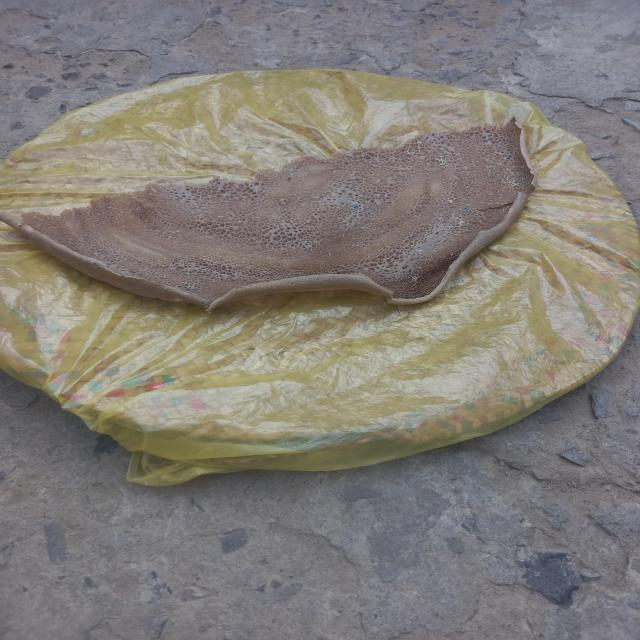injera_mold: (436, 157, 446, 166), (404, 148, 418, 154), (460, 206, 474, 212), (456, 217, 465, 226), (410, 275, 418, 285), (507, 179, 516, 187), (416, 140, 424, 146), (488, 172, 496, 178), (505, 155, 511, 161), (448, 198, 454, 204), (352, 203, 358, 209), (500, 179, 506, 184), (508, 209, 514, 214), (188, 284, 195, 288), (363, 226, 368, 231), (416, 249, 424, 252), (366, 210, 372, 214), (518, 173, 522, 178), (488, 166, 496, 168), (393, 274, 397, 278), (509, 166, 514, 169), (435, 219, 440, 222), (410, 259, 415, 262), (87, 273, 92, 276), (431, 205, 435, 208), (125, 265, 129, 268), (520, 166, 524, 169), (527, 181, 530, 185), (517, 182, 519, 187), (500, 152, 505, 154), (488, 134, 493, 136), (450, 253, 453, 256), (510, 123, 513, 126), (418, 266, 421, 269), (110, 265, 118, 266), (502, 209, 506, 211), (448, 228, 452, 230), (419, 150, 421, 153), (418, 173, 424, 174), (514, 194, 516, 197), (332, 182, 334, 185), (522, 199, 524, 202), (295, 193, 297, 196), (522, 184, 524, 186), (137, 276, 139, 278), (514, 126, 515, 129), (311, 204, 312, 207), (509, 191, 511, 192), (135, 274, 137, 275)
